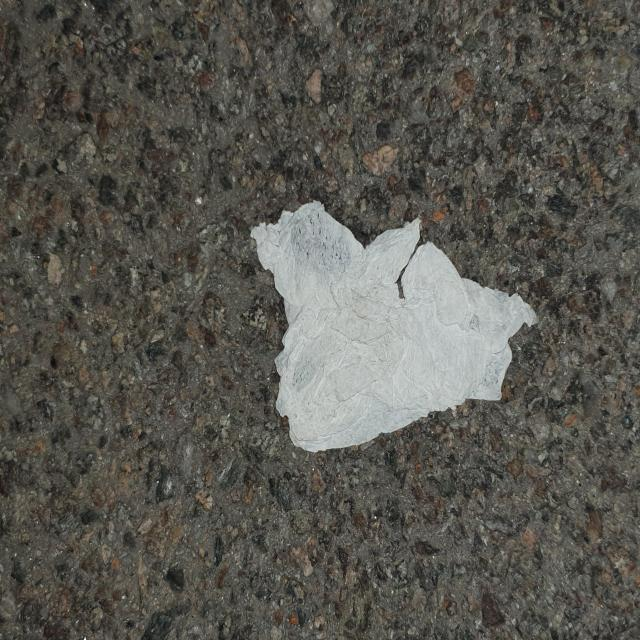giay: (249, 202, 537, 455)
